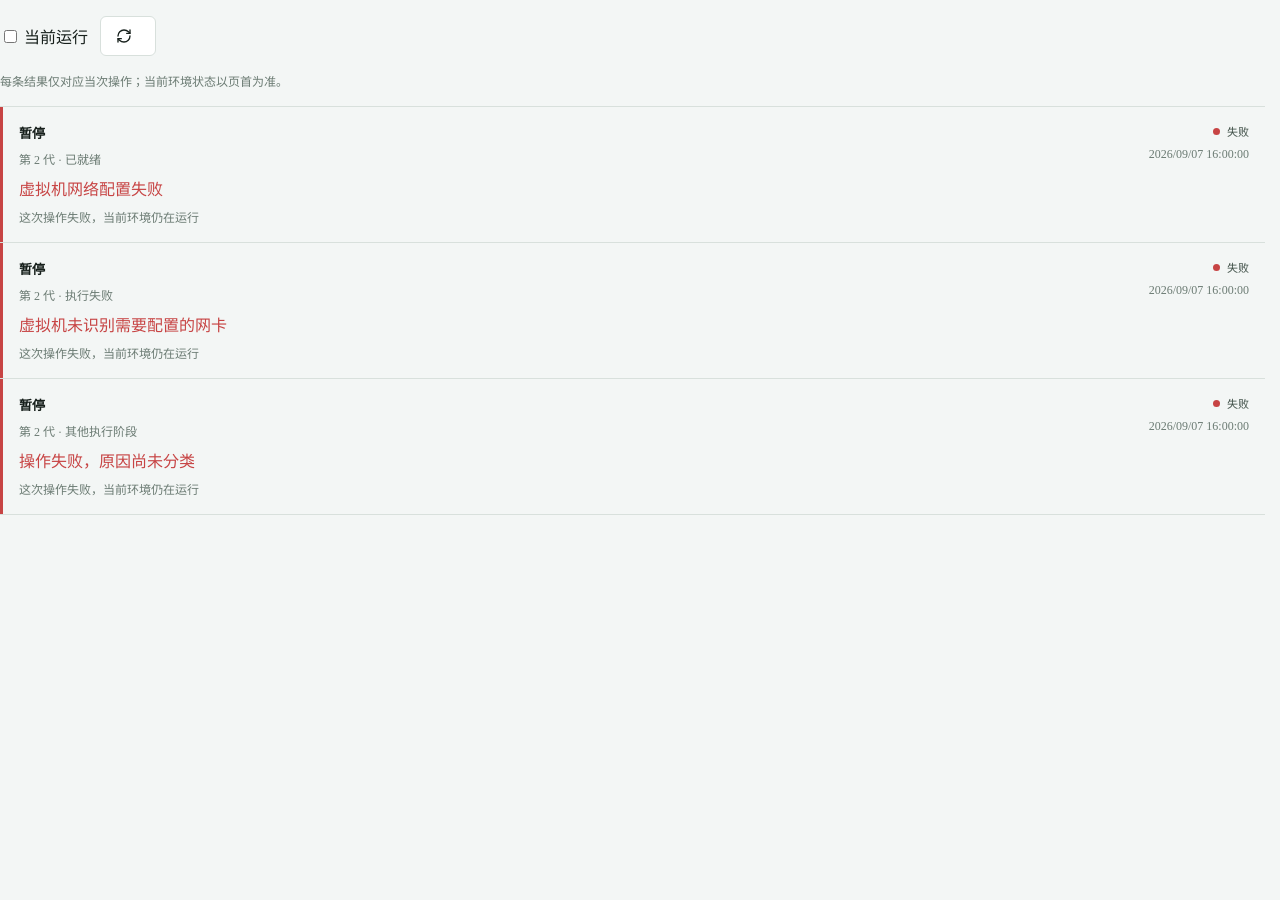
it: TaskHistoryPanel › classifies known failures and keeps raw codes in the detail drawer
Expected: the text "第 2 代 · 已就绪" is shown, [19, 153, 101, 167]
Expected: the text "第 2 代 · 执行失败" is shown, [19, 289, 113, 303]
Click the button "虚拟机网络配置失败": x=632, y=174 [0, 107, 1265, 242]
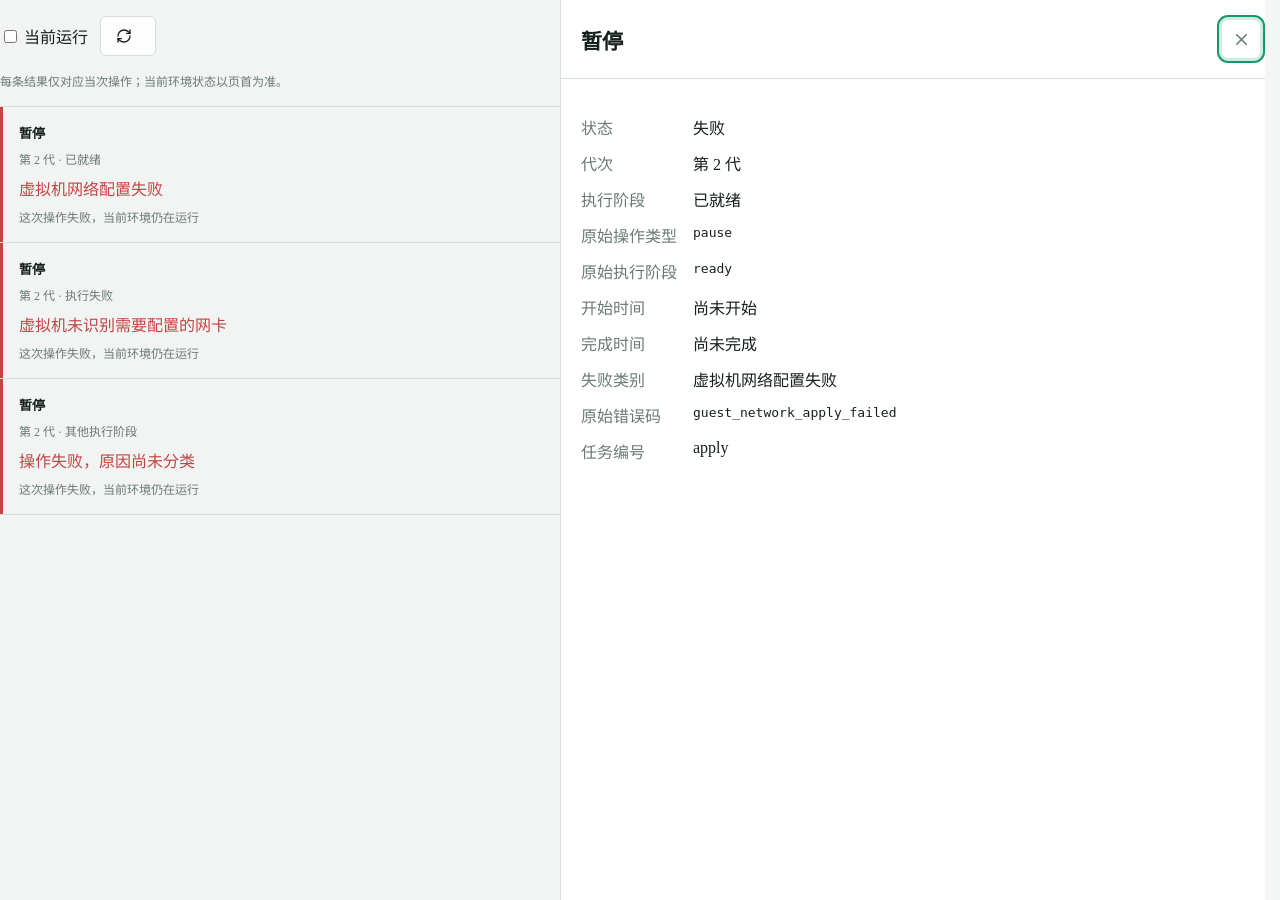
Expected: the text "guest_network_apply_failed" is shown, [693, 405, 896, 420]
Expected: the text "ready" is shown, [693, 261, 732, 276]
